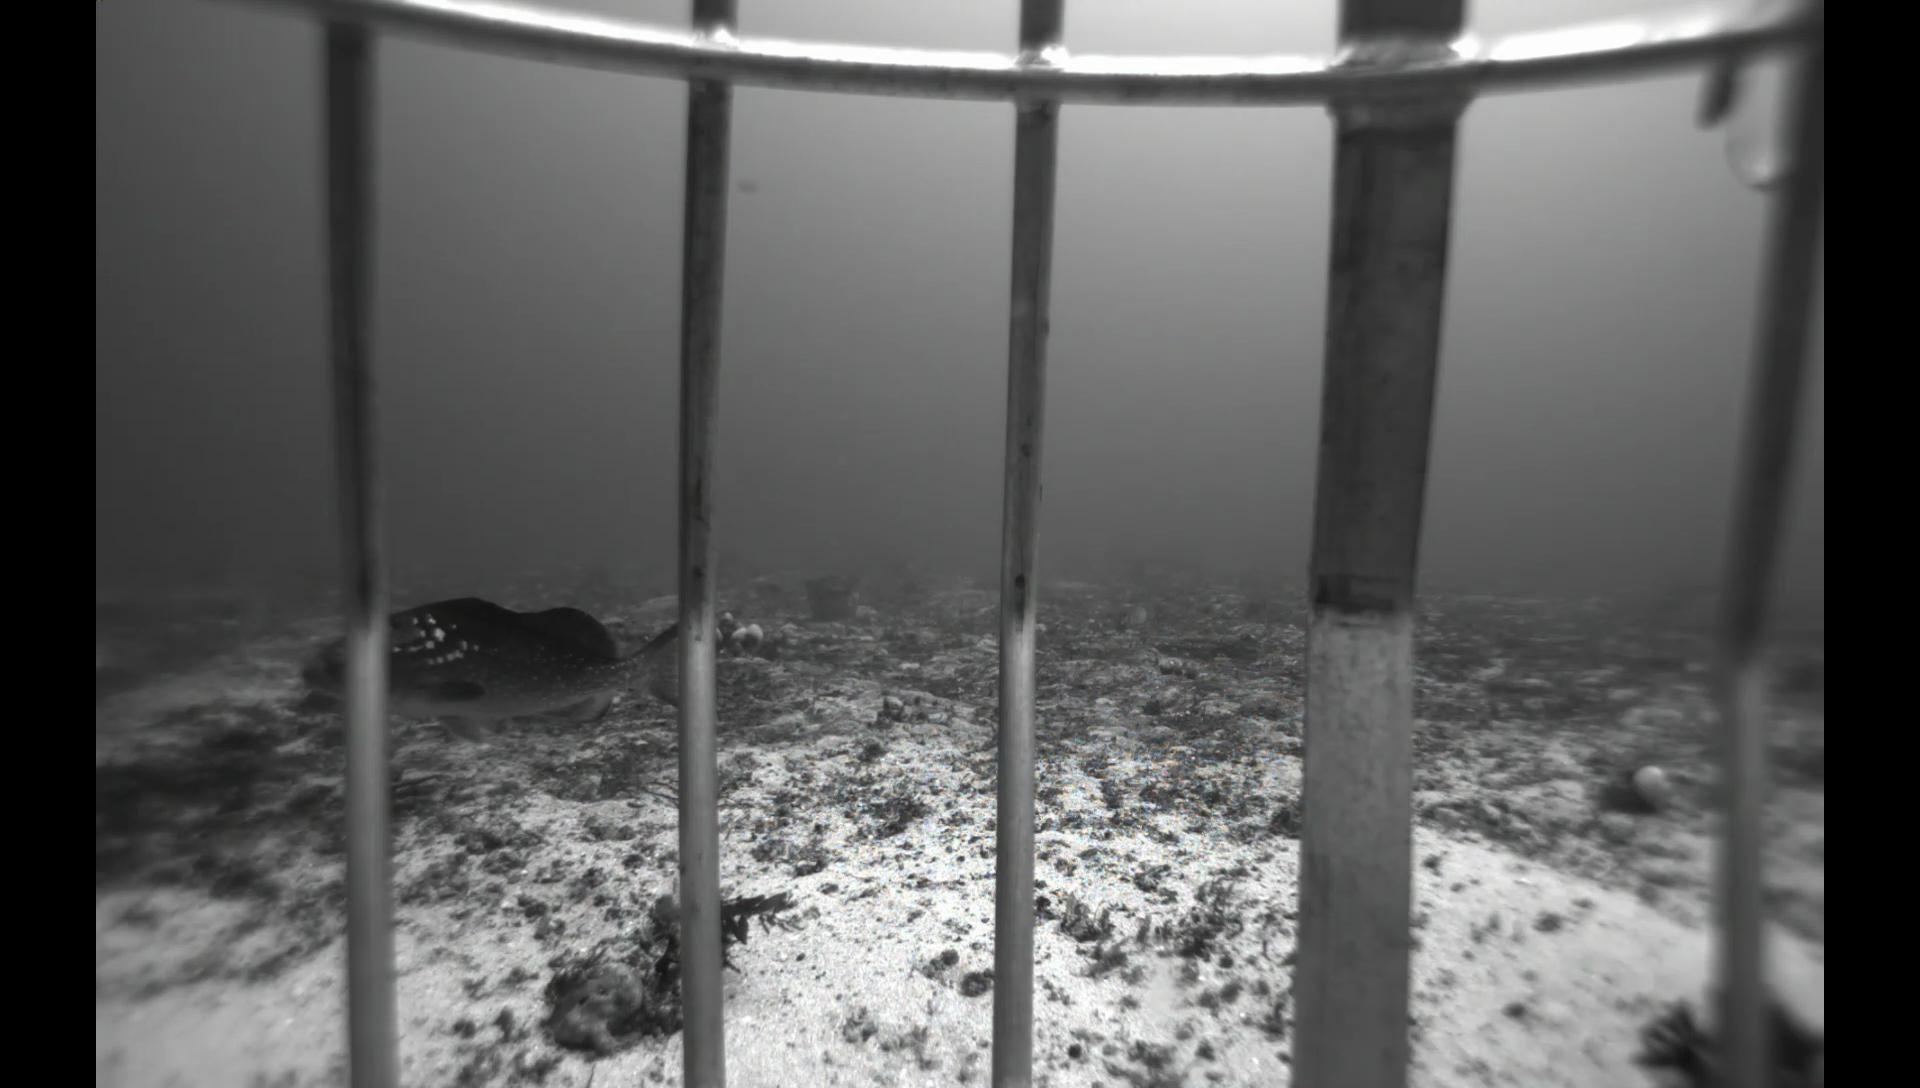CHAETODONOCELLATUS-170260307: (1116, 601, 1156, 628), (1114, 586, 1135, 603)
EPINEPHELUSMORIO-170021211: (291, 593, 680, 732)
HALICHOERESBIVITTATUS-170281202: (199, 692, 239, 713)
PRISTIGENYSALTA-170050401: (299, 688, 345, 720)
